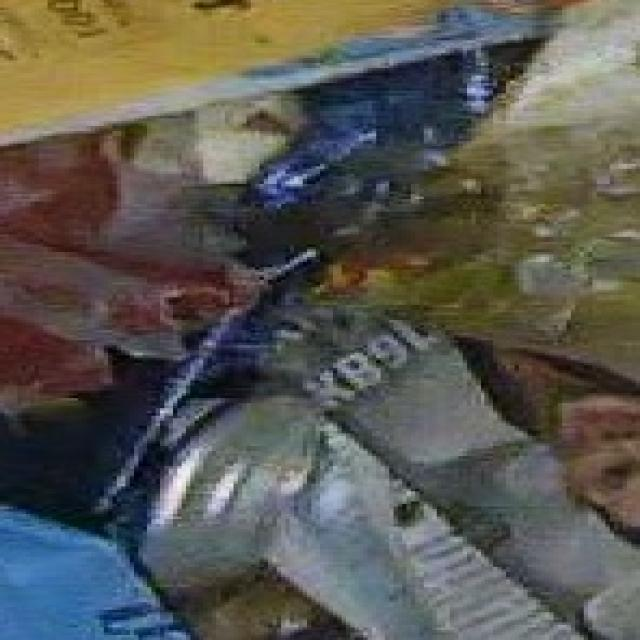can: (84, 368, 350, 579)
